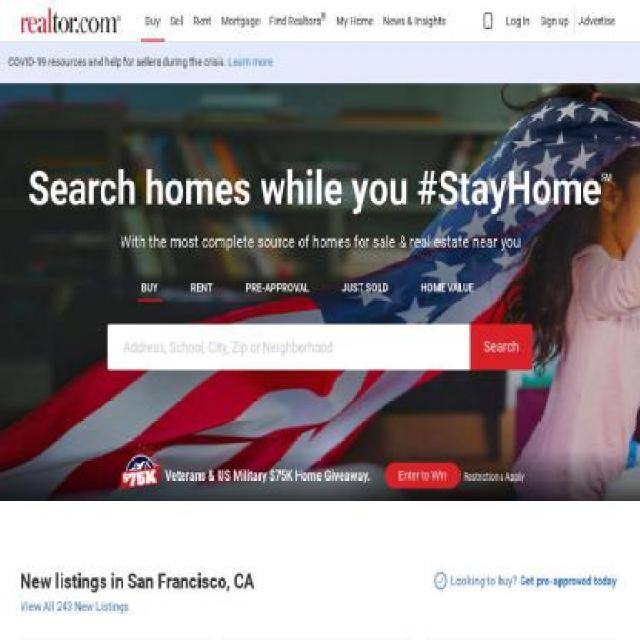button: (20, 0, 120, 42), (432, 570, 617, 588), (470, 324, 533, 370), (264, 0, 331, 42), (241, 276, 314, 302), (535, 0, 574, 42), (416, 276, 478, 302), (338, 276, 392, 302), (476, 0, 501, 42), (186, 276, 217, 302), (138, 276, 162, 302)
field: (107, 324, 470, 370)
